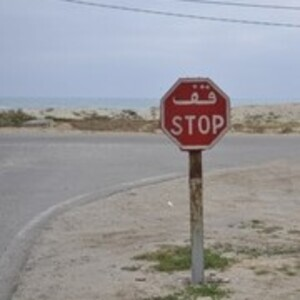stop: (162, 78, 232, 152)
